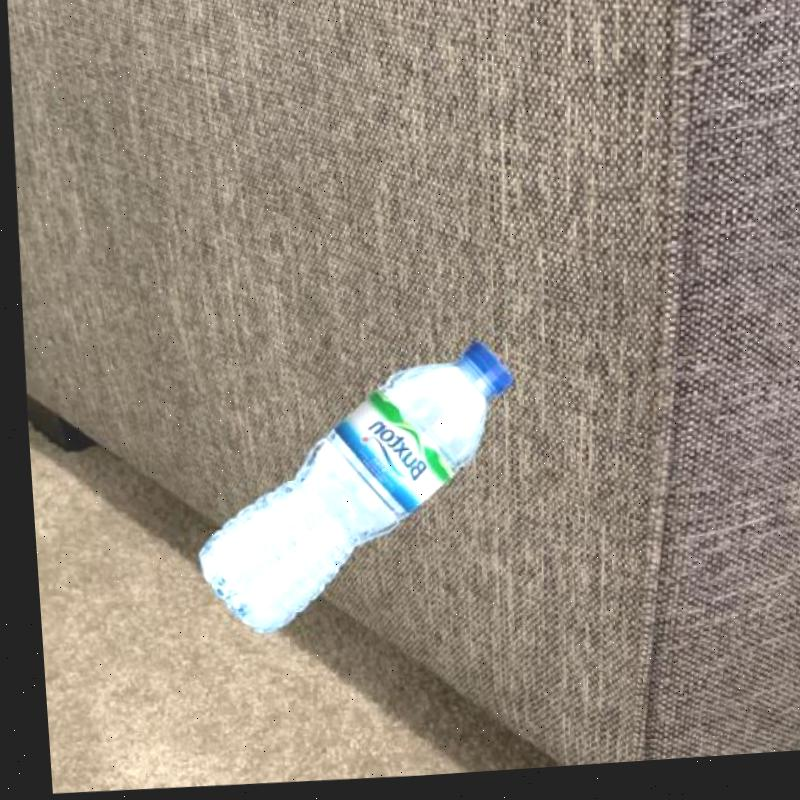botella: (175, 338, 525, 653)
